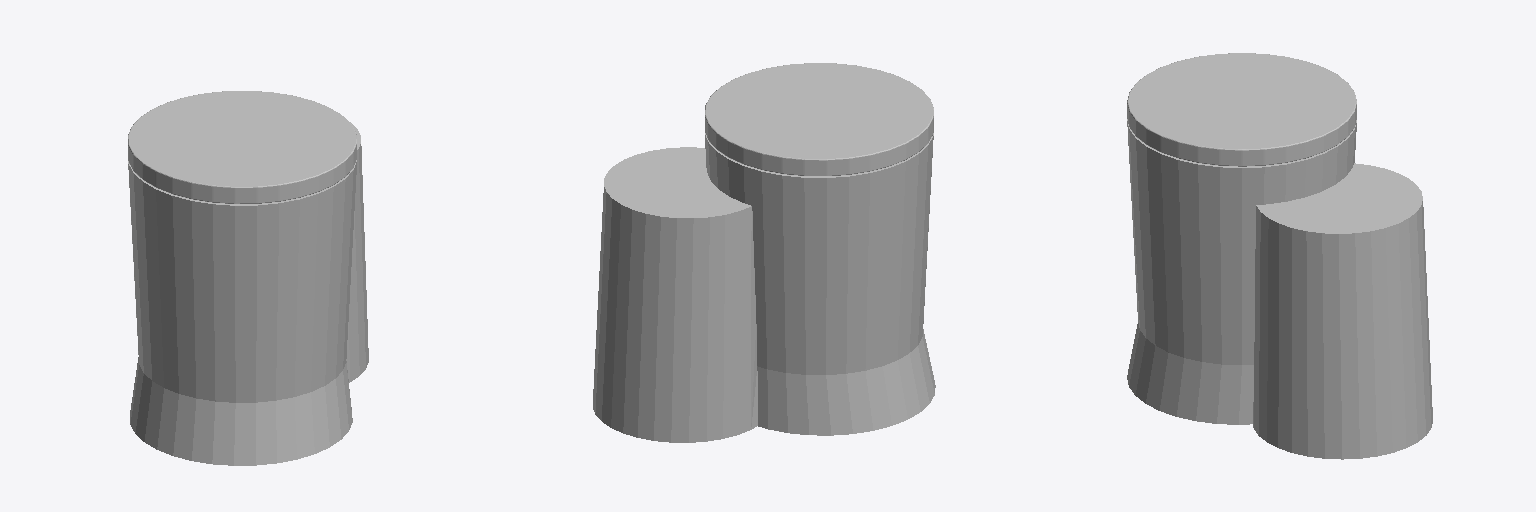
Rendered from masher_empty.obj.
The picture shows the model from 3 angles: view 1: azimuth 30°, elevation 25°; view 2: azimuth 150°, elevation 25°; view 3: azimuth 270°, elevation 25°; orthographic projection.
Parts seen in each view (by area): view 1: recipiente_Cylinder, tampa_Cylinder.003, motor_Cylinder.001; view 2: motor_Cylinder.001, recipiente_Cylinder, tampa_Cylinder.003; view 3: motor_Cylinder.001, recipiente_Cylinder, tampa_Cylinder.003.
Boxes of the visible parts, <box> form: recipiente_Cylinder: <box>128,160,356,402</box>; tampa_Cylinder.003: <box>128,91,356,203</box>; motor_Cylinder.001: <box>130,122,368,465</box>; motor_Cylinder.001: <box>593,147,935,442</box>; recipiente_Cylinder: <box>705,133,933,374</box>; tampa_Cylinder.003: <box>705,63,933,175</box>; motor_Cylinder.001: <box>1127,163,1432,459</box>; recipiente_Cylinder: <box>1127,119,1356,364</box>; tampa_Cylinder.003: <box>1127,53,1356,166</box>.
Size of the model in its own units: 0.9591 by 0.9632 by 0.9616.